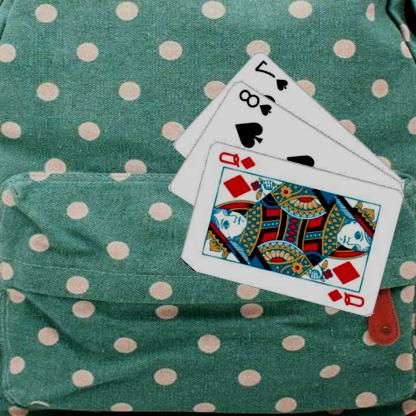7S: (254, 57, 291, 92)
8S: (237, 86, 275, 117)
QD: (326, 286, 367, 309), (218, 148, 258, 171)
